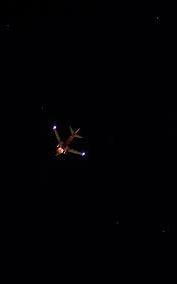Plane: (36, 104, 97, 173)
